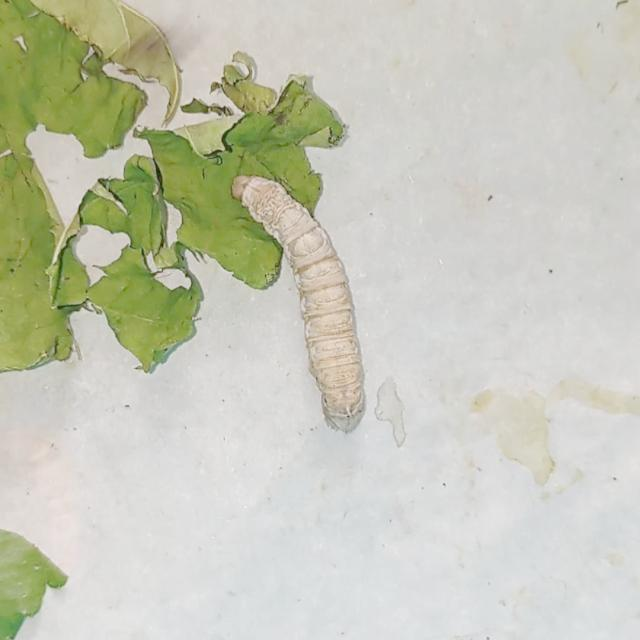Grasserie: (222, 153, 392, 446)
